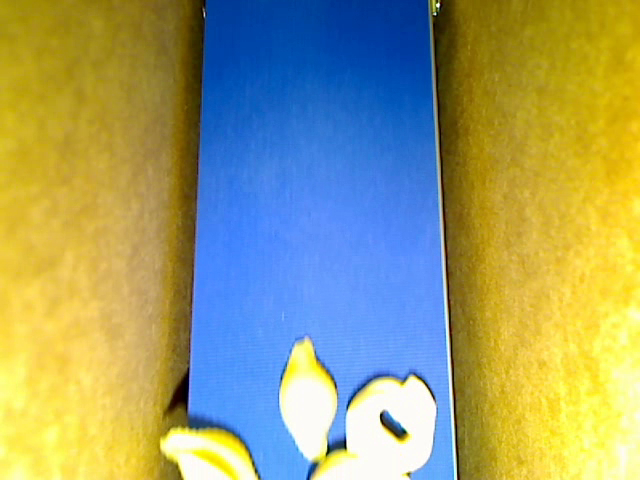shell: (277, 336, 337, 464), (157, 425, 259, 479)
tortellini: (347, 371, 437, 474)
